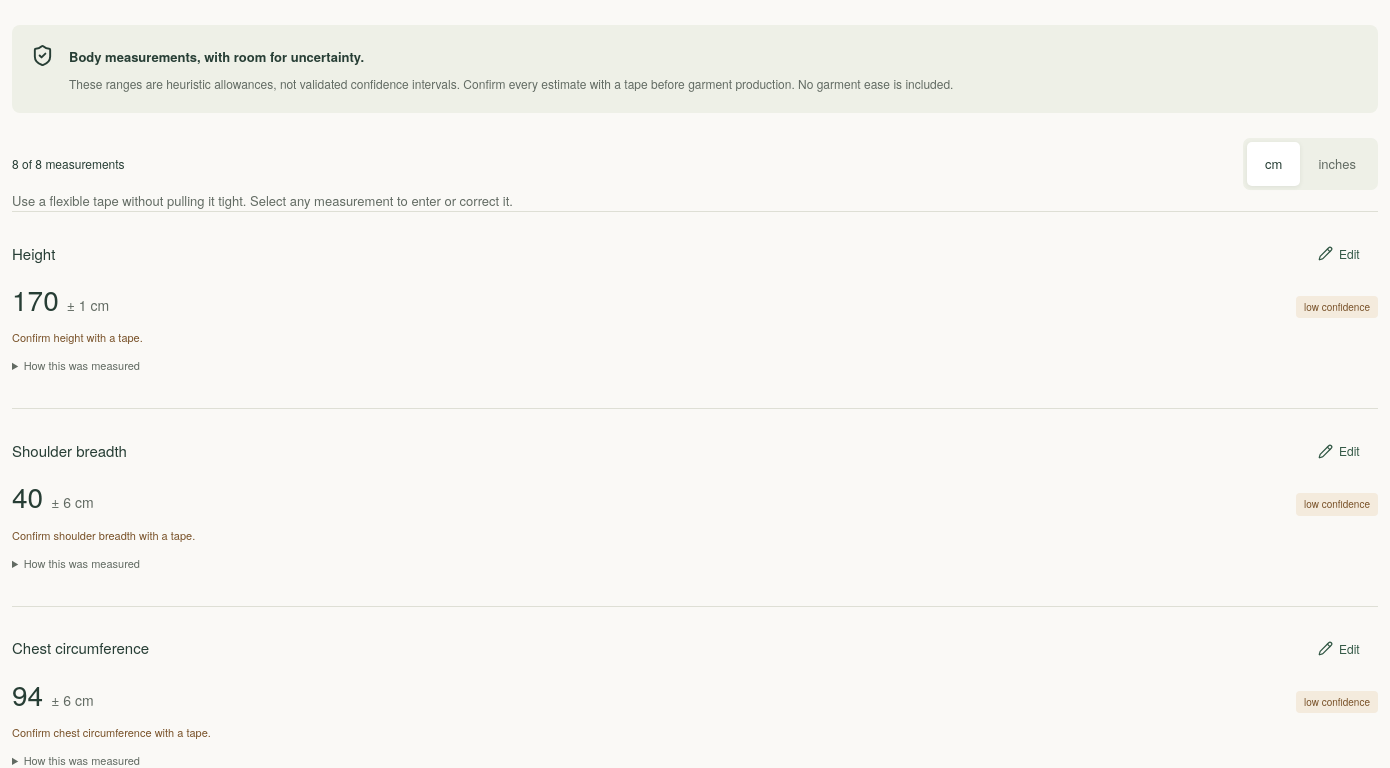
Test case: results › switches to sensible half-inch display
What coordinates should you click on to do the following:
click the button "inches"
I would click on:
 (1337, 164)
Its box is x1=1300 y1=142 x2=1374 y2=186.
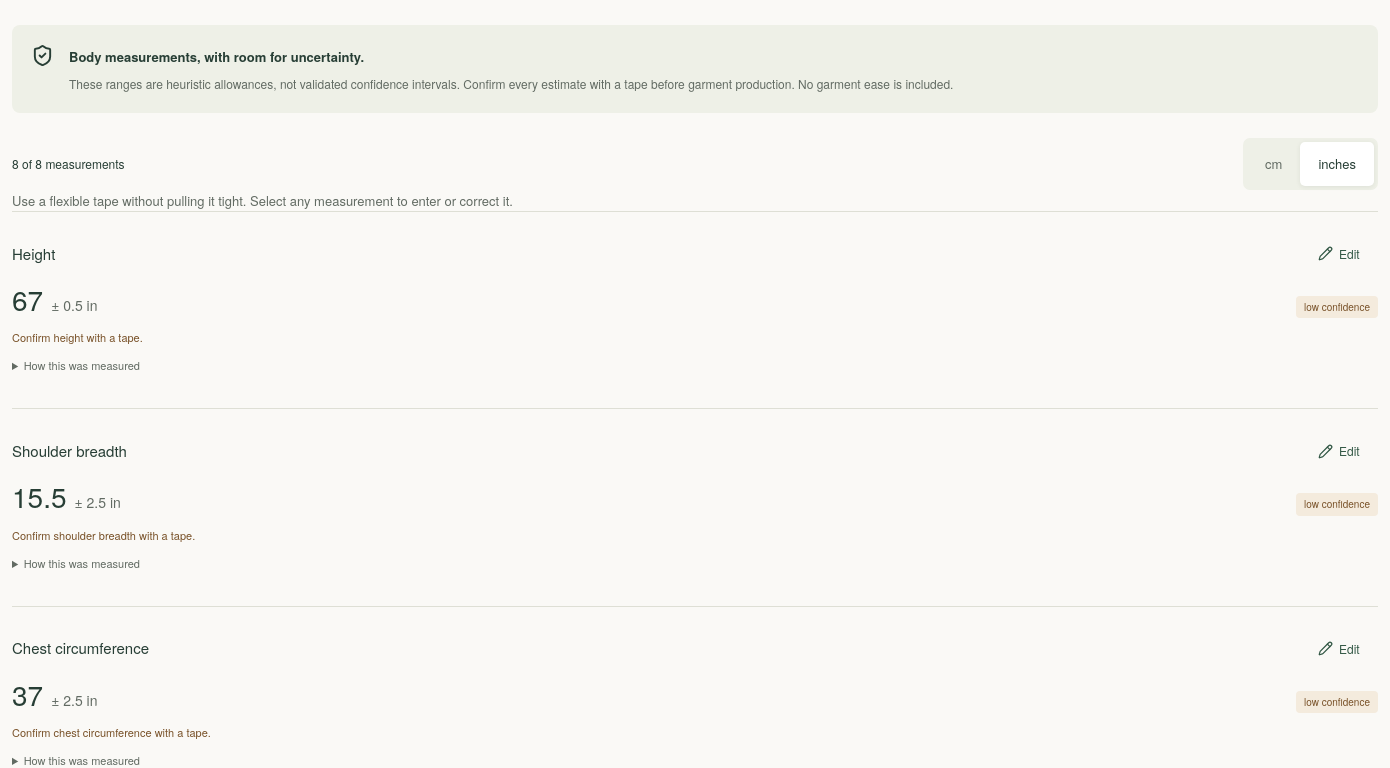
Now the text "± 2.5 in" next to "15.5" is shown, box x1=74 y1=491 x2=121 y2=514
